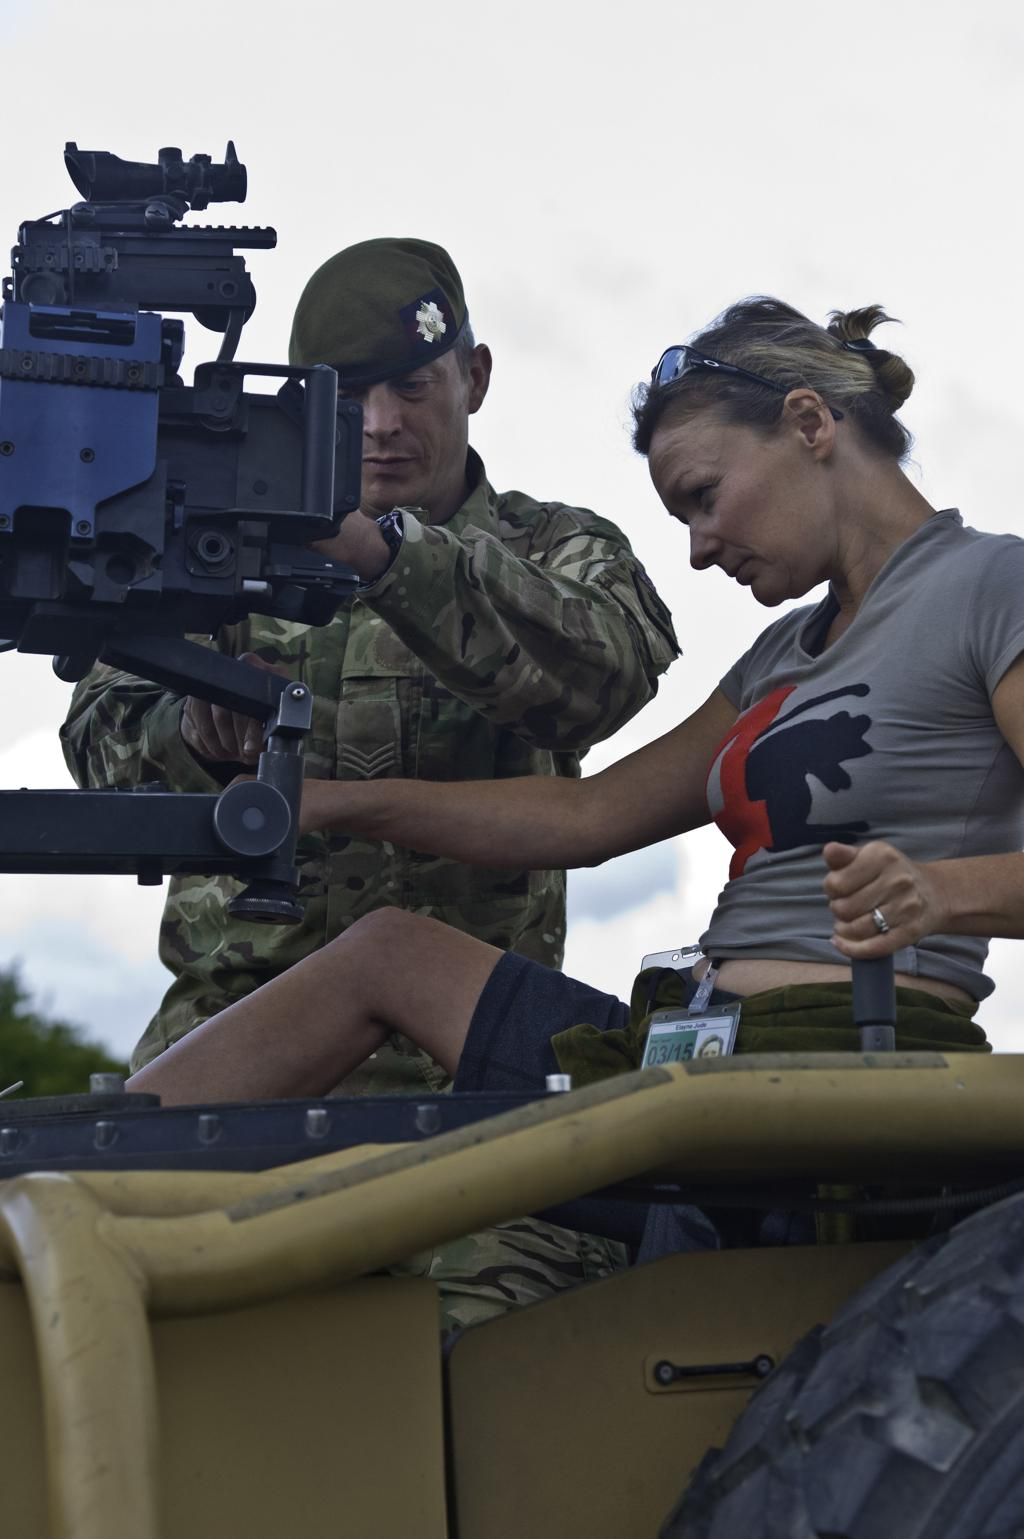face: (667, 402, 793, 606), (312, 324, 450, 495)
